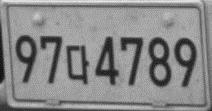4: (94, 35, 119, 85)
7: (119, 36, 143, 85), (39, 34, 62, 84)
8: (147, 36, 172, 87)
9: (173, 37, 197, 87), (14, 34, 37, 83)
다: (65, 44, 90, 85)
